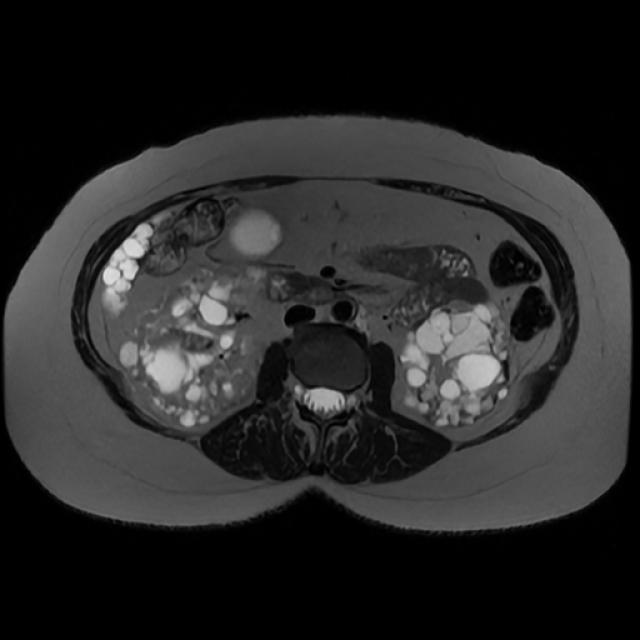sag: (118, 262, 271, 430)
sol: (393, 296, 525, 429)
